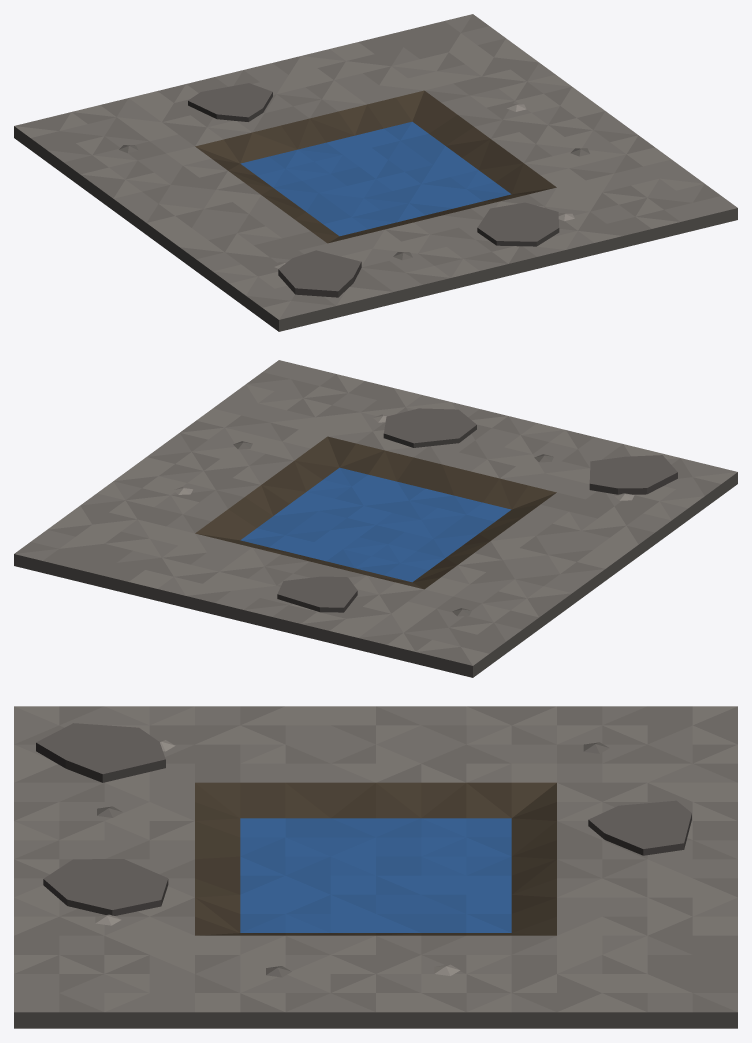
File: river_pool_rock.glb
The picture shows the model from 3 angles, top to bottom: view 1: azimuth 30°, elevation 25°; view 2: azimuth 150°, elevation 25°; view 3: azimuth 270°, elevation 25°; orthographic projection. The views are drawn at different scales.
Visible parts, largest first — view 1: river_pool_rock; view 2: river_pool_rock; view 3: river_pool_rock.
Boxes of the visible parts, bbox=[...] form: river_pool_rock: bbox=[14, 14, 737, 331]; river_pool_rock: bbox=[14, 360, 737, 677]; river_pool_rock: bbox=[14, 706, 737, 1028].
Size of the model in its own units: 4 by 0.153 by 4.
